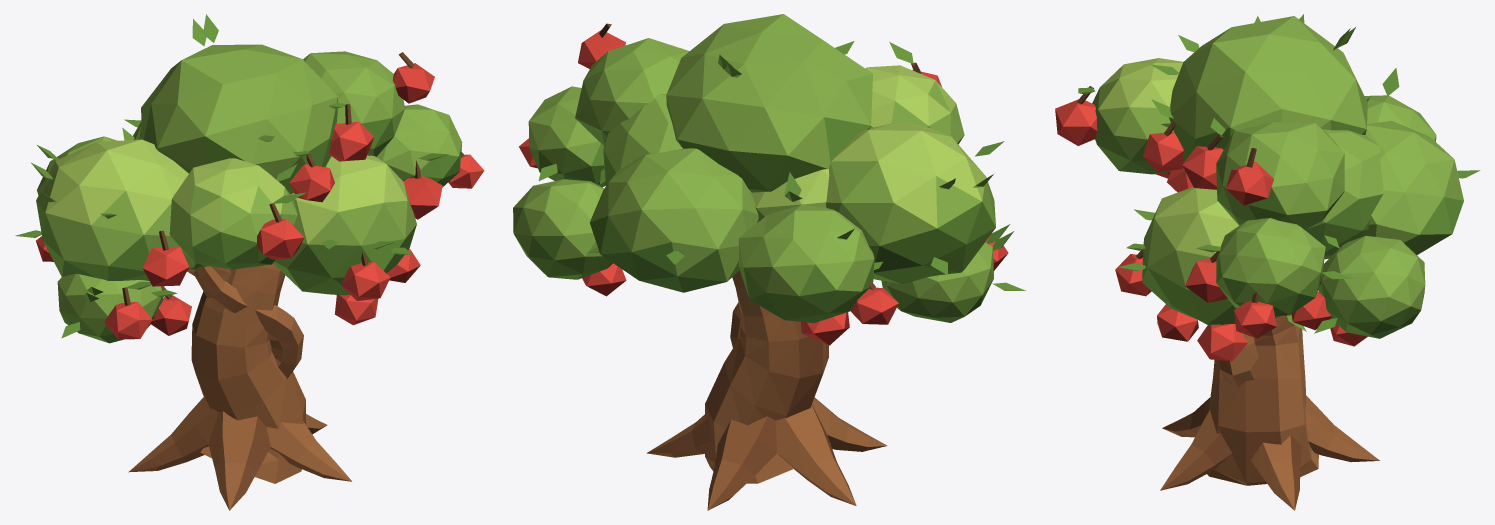
File: FMS_Tree_Apple_Fruit.fbx
3 renders of one model, left to right at view 1: azimuth 30°, elevation 25°; view 2: azimuth 150°, elevation 25°; view 3: azimuth 270°, elevation 25°, orthographic. The views are drawn at different scales.
Parts seen in each view (by area): view 1: FMS_Tree_Apple_Fruit; view 2: FMS_Tree_Apple_Fruit; view 3: FMS_Tree_Apple_Fruit.
Part boxes in pixels (bbox=[...]): FMS_Tree_Apple_Fruit: bbox=[15, 14, 484, 510]; FMS_Tree_Apple_Fruit: bbox=[513, 14, 1025, 510]; FMS_Tree_Apple_Fruit: bbox=[1055, 14, 1480, 510].
Size of the model in its own units: 4.45 by 3.98 by 3.53.
